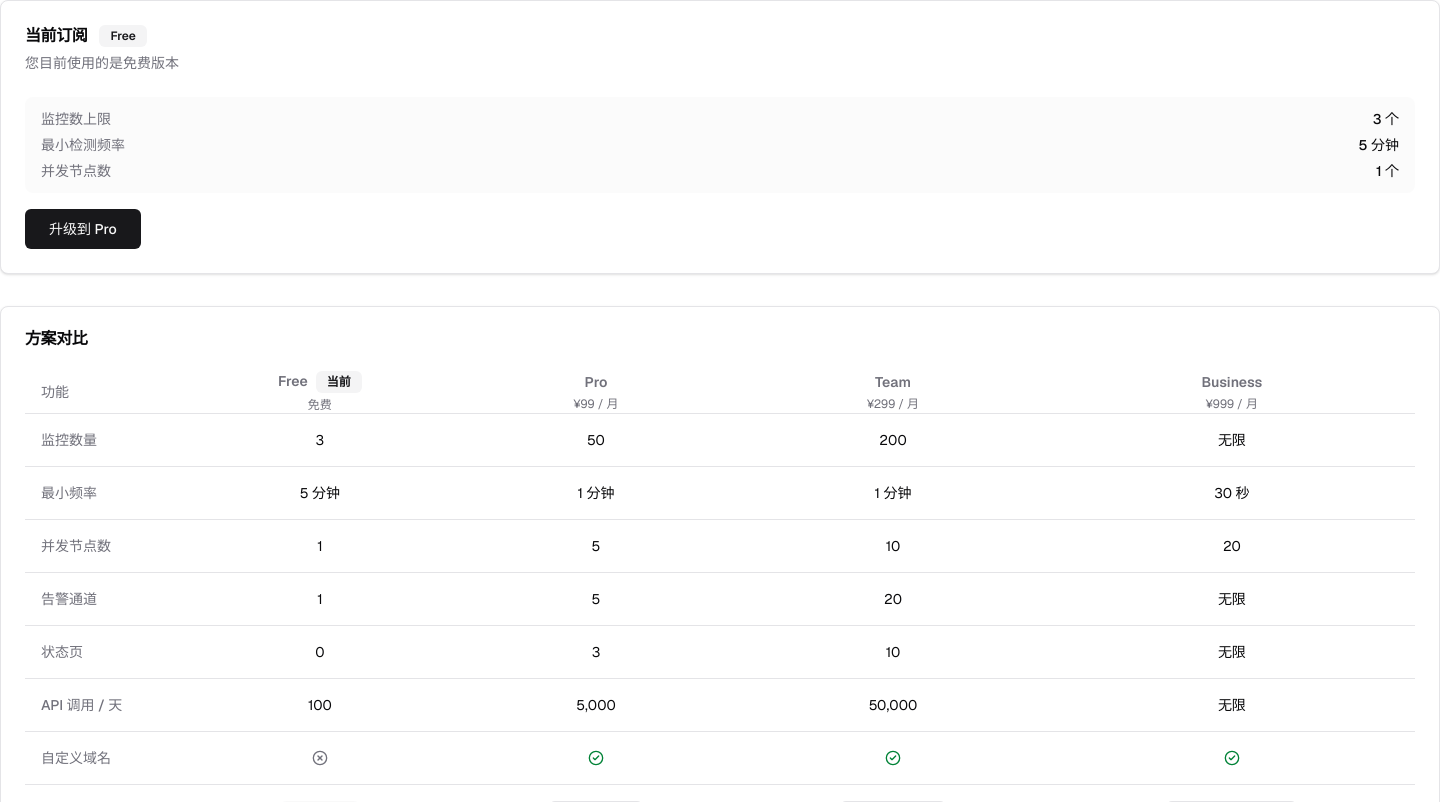
Scenario: BillingClient › upgrade button opens payment channel dialog
Click the button with test id "upgrade-button".
click(83, 229)  # box [25, 209, 141, 249]
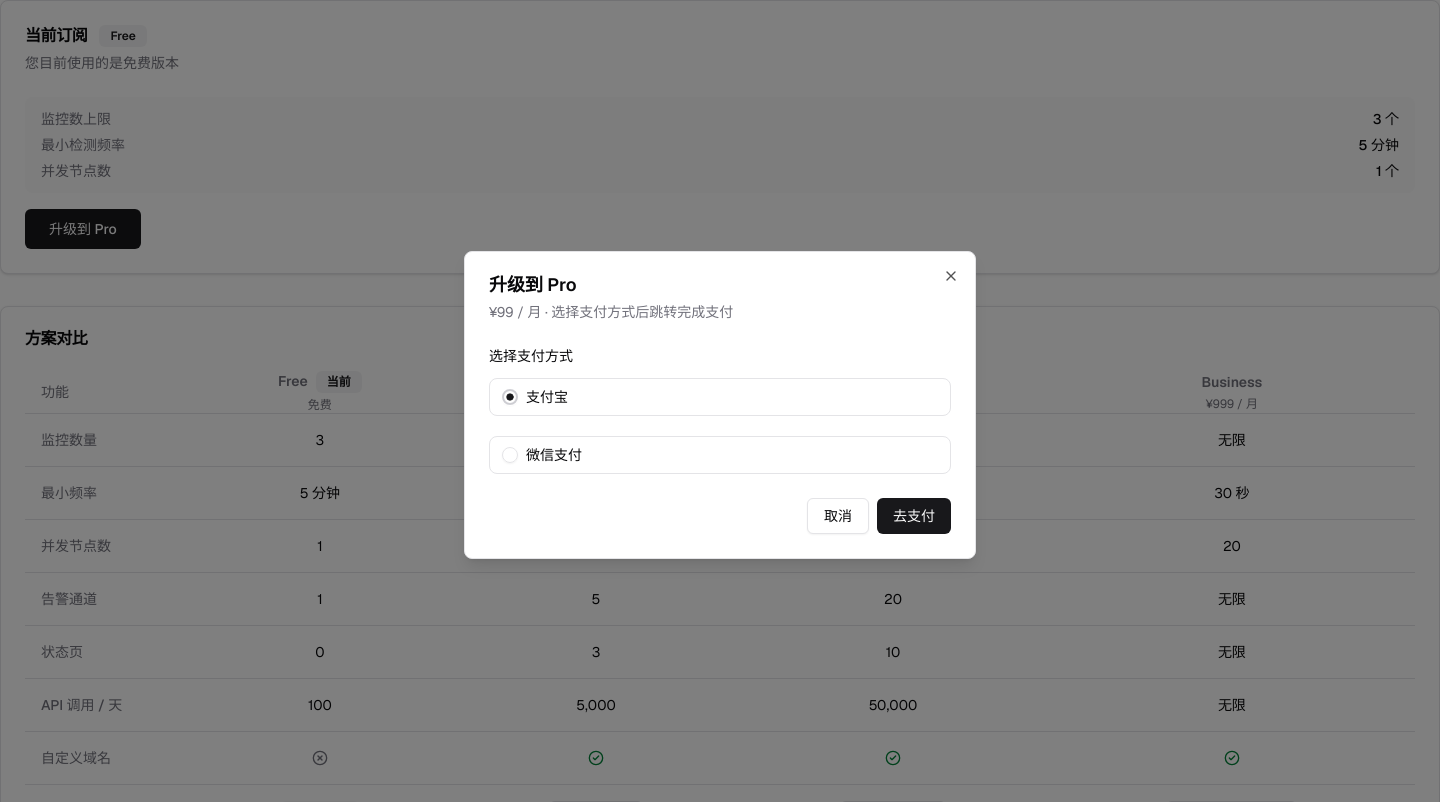
Result: the dialog with test id "upgrade-dialog" is shown at [464, 251, 976, 559]
